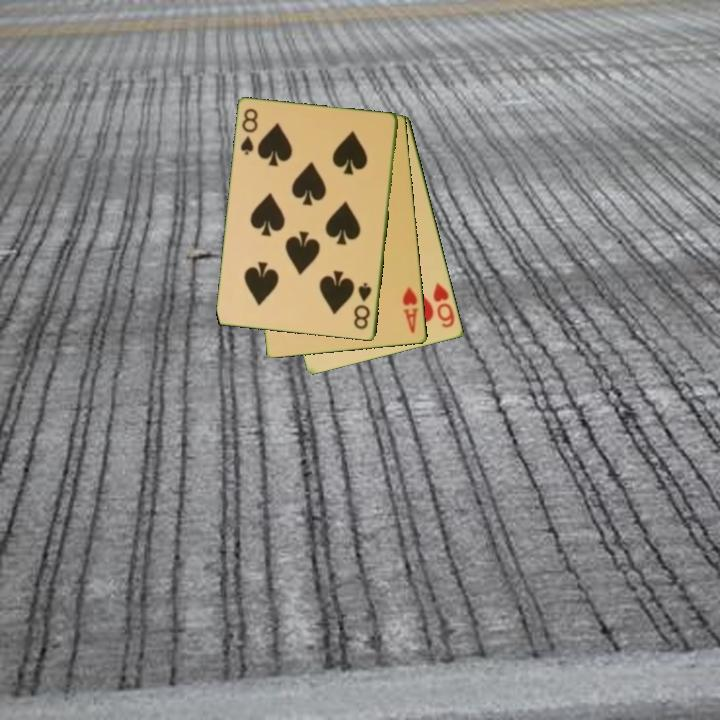6h: (430, 279, 458, 331)
8s: (351, 280, 375, 333), (237, 105, 261, 158)
Ah: (399, 284, 421, 336)
